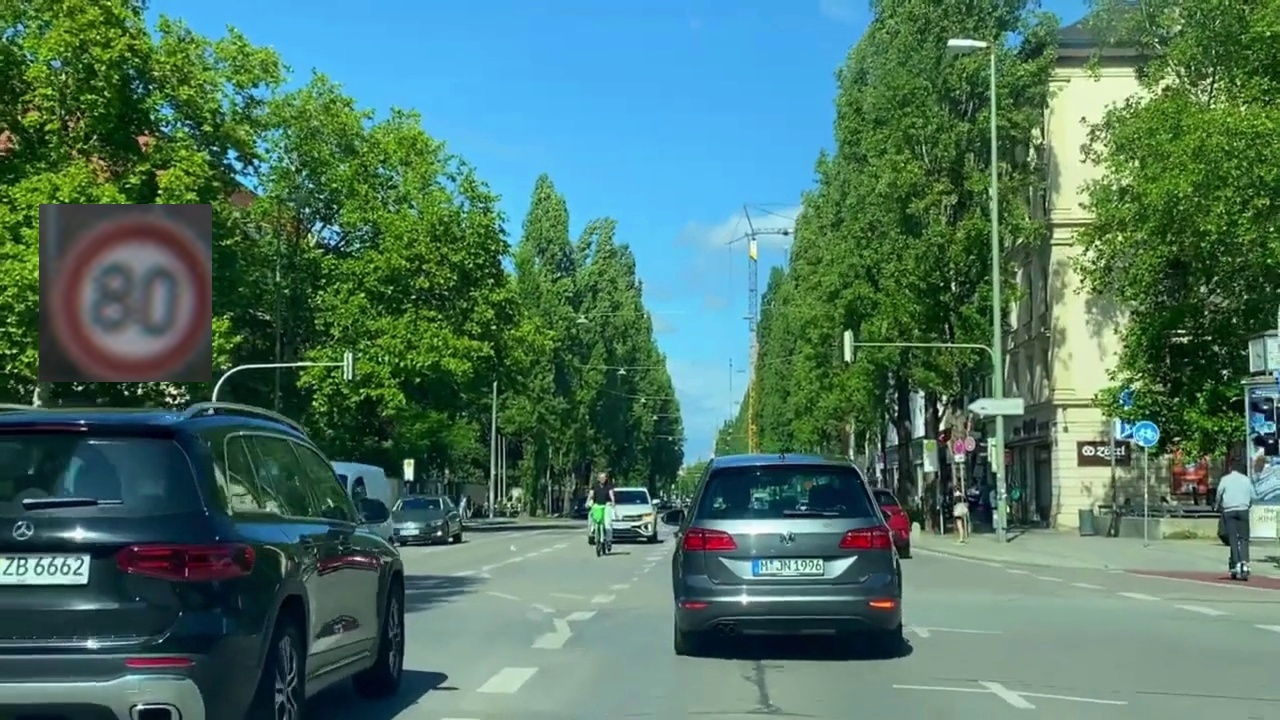Speed 80: (39, 204, 212, 382)
